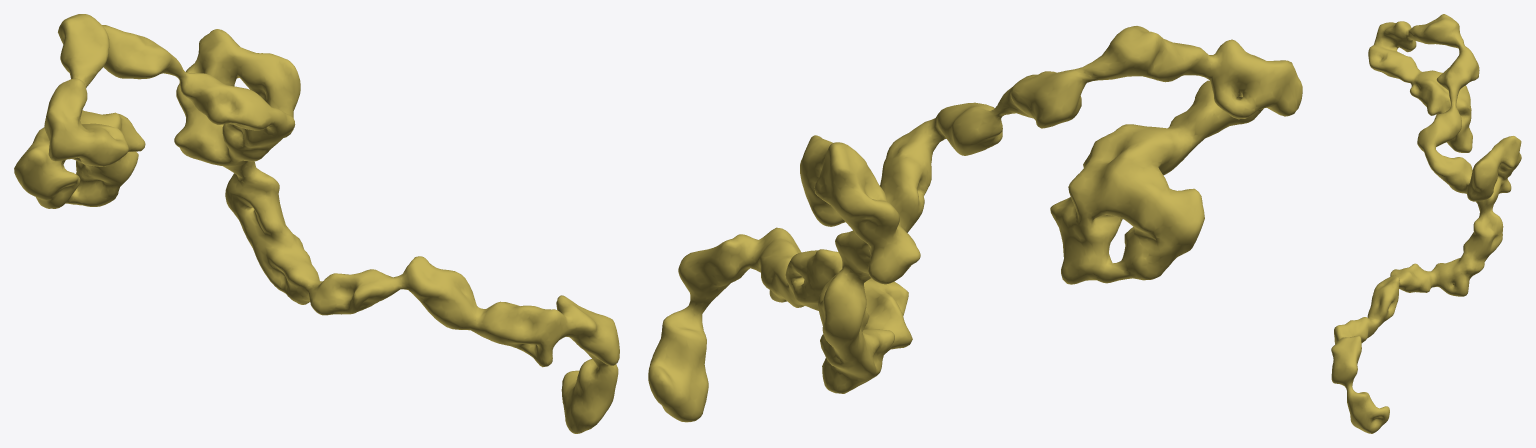
File: FactorH1.fbx
3 renders of one model, left to right at view 1: azimuth 30°, elevation 25°; view 2: azimuth 150°, elevation 25°; view 3: azimuth 270°, elevation 25°, orthographic. The views are drawn at different scales.
Visible parts, largest first — view 1: CoarseMS_3gauMSsuper; view 2: CoarseMS_3gauMSsuper; view 3: CoarseMS_3gauMSsuper.
Boxes of the visible parts, x1,y1,x2,y2 form: CoarseMS_3gauMSsuper: (14,14,619,433); CoarseMS_3gauMSsuper: (648,26,1302,422); CoarseMS_3gauMSsuper: (1331,14,1521,433).
Bounding box in the file's own units: 258 × 215 × 129.
